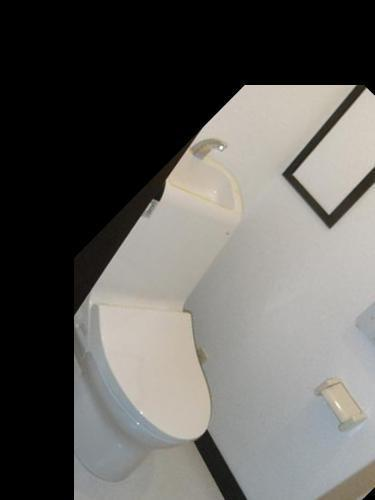Sanitario: (0, 124, 363, 500)
